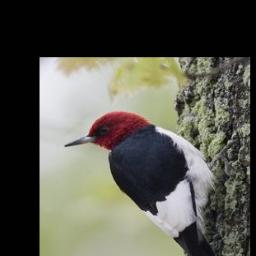Woodpecker: (55, 108, 234, 256)
